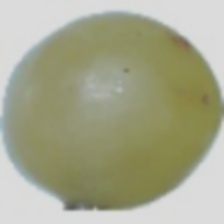grapes: (20, 6, 199, 184)
